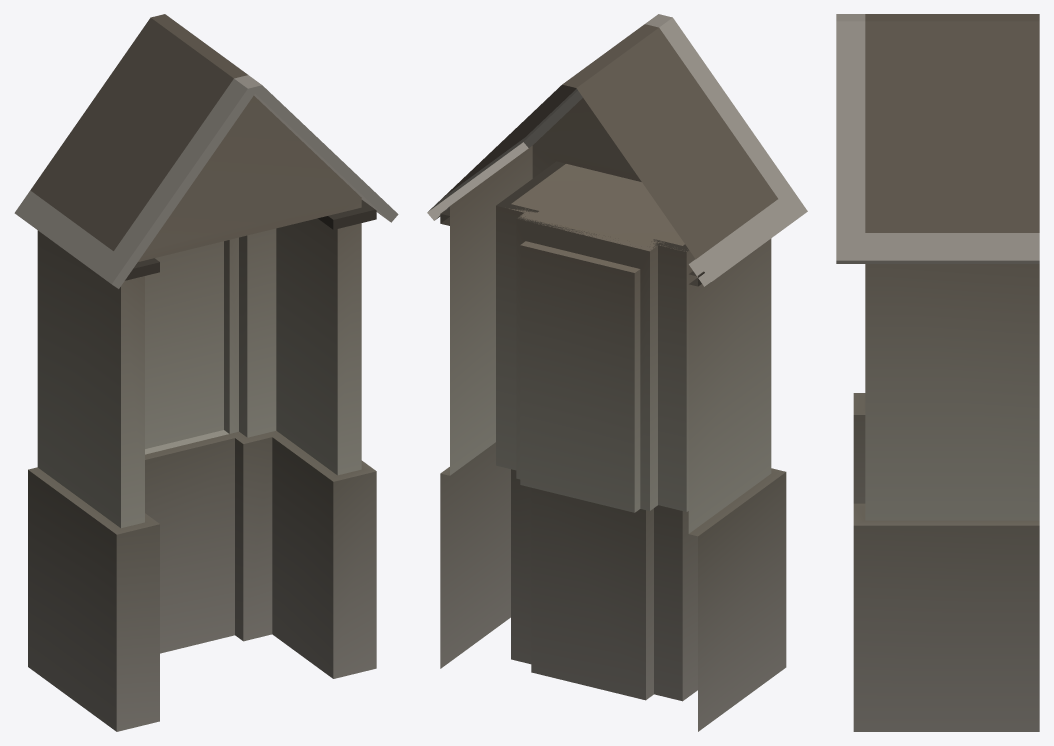
File: Front_D.fbx
3 views of the same model, side by side, from view 1: azimuth 30°, elevation 25°; view 2: azimuth 150°, elevation 25°; view 3: azimuth 270°, elevation 25° (orthographic). The views are drawn at different scales.
Parts seen in each view (by area): view 1: Front_D; view 2: Front_D; view 3: Front_D.
Part boxes in pixels (x1=…): Front_D: x1=14, y1=14, x2=398, y2=731; Front_D: x1=427, y1=14, x2=807, y2=731; Front_D: x1=836, y1=14, x2=1039, y2=731.
Bounding box in the file's own units: 298 × 615 × 175.
